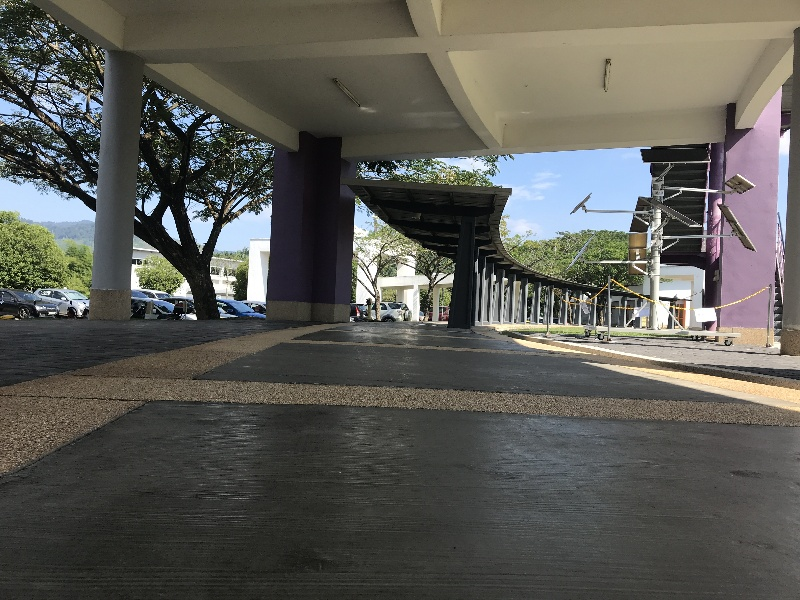pillar: (262, 121, 357, 333), (710, 89, 775, 353), (82, 38, 138, 333), (450, 208, 475, 330)
